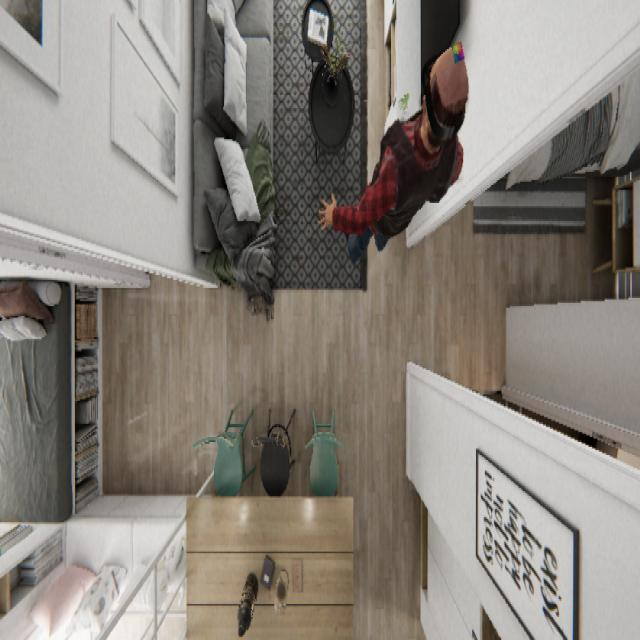Colored-Marker: (451, 38, 465, 64)
Human: (317, 40, 469, 264)
